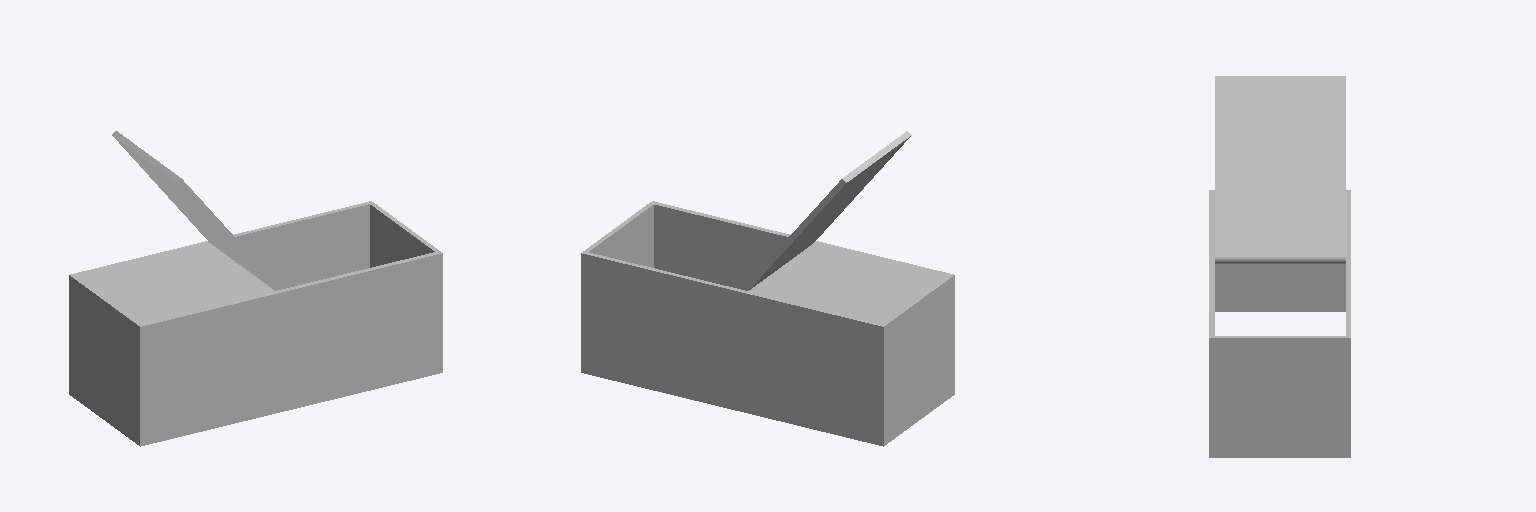
The model's file is container_lid.obj.
The picture shows the model from 3 angles: view 1: azimuth 30°, elevation 25°; view 2: azimuth 150°, elevation 25°; view 3: azimuth 270°, elevation 25°; orthographic projection.
Parts seen in each view (by area): view 1: Mesh1 Group1 Model; view 2: Mesh1 Group1 Model; view 3: Mesh1 Group1 Model.
Part boxes in pixels (left/top/right/bottom): Mesh1 Group1 Model: left=69, top=131, right=442, bottom=446; Mesh1 Group1 Model: left=581, top=131, right=954, bottom=446; Mesh1 Group1 Model: left=1209, top=76, right=1350, bottom=457.
Size of the model in its own units: 146 by 117 by 59.4.